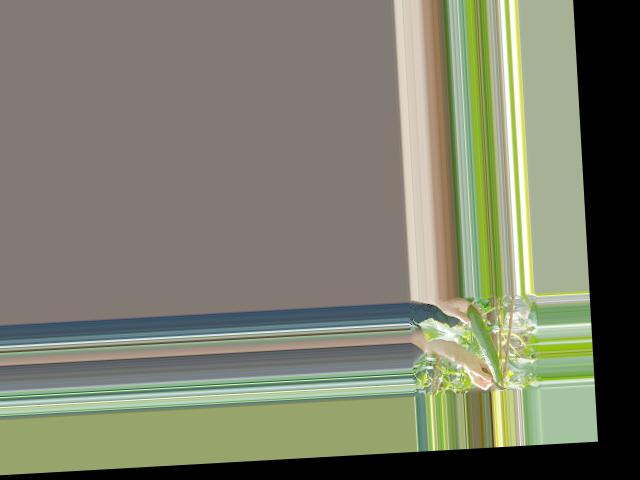cucumber: (466, 303, 501, 383)
